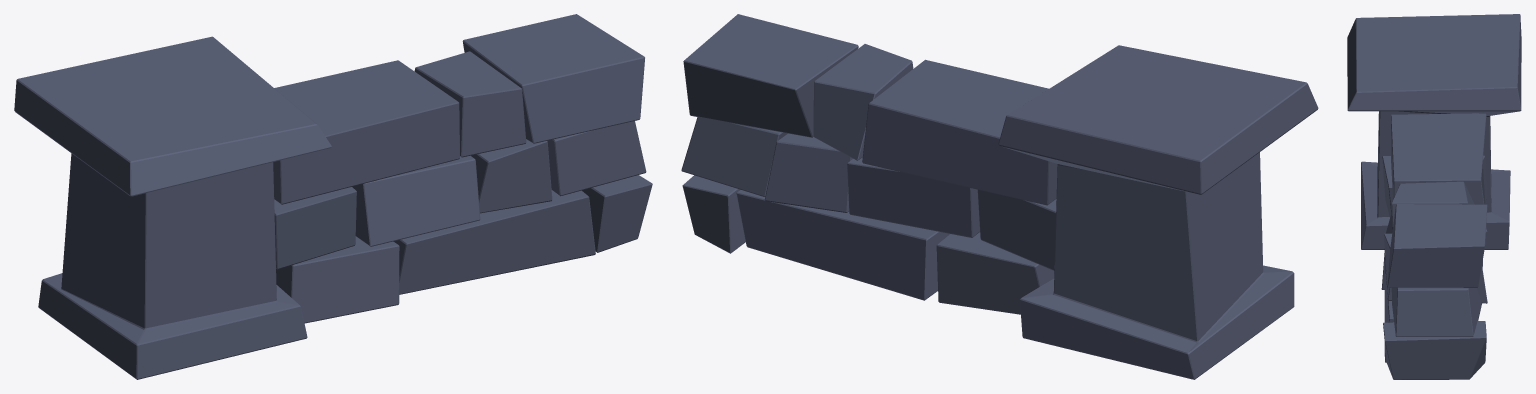
The model's file is stone_fence2.fbx.
The picture shows the model from 3 angles, left to right: view 1: azimuth 30°, elevation 25°; view 2: azimuth 150°, elevation 25°; view 3: azimuth 270°, elevation 25°; orthographic projection. The views are drawn at different scales.
Parts seen in each view (by area): view 1: Cylinder.000; view 2: Cylinder.000; view 3: Cylinder.000.
Part boxes in pixels (left/top/right/bottom): Cylinder.000: left=14, top=14, right=652, bottom=379; Cylinder.000: left=681, top=14, right=1318, bottom=379; Cylinder.000: left=1347, top=14, right=1521, bottom=379.
Size of the model in its own units: 413 by 165 by 152.
